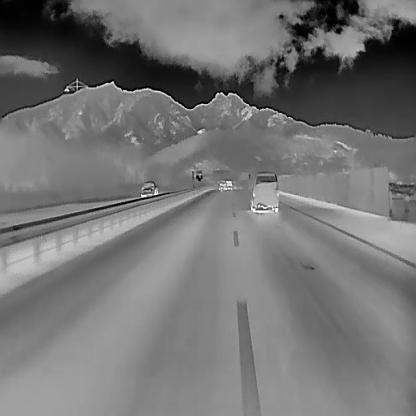car: (249, 171, 279, 213), (139, 180, 157, 198), (218, 179, 226, 191), (224, 178, 232, 189)
